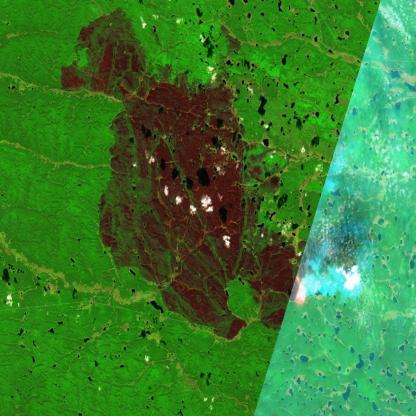fire: (288, 272, 312, 310)
